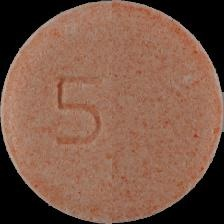64380-735: (0, 0, 224, 224)
